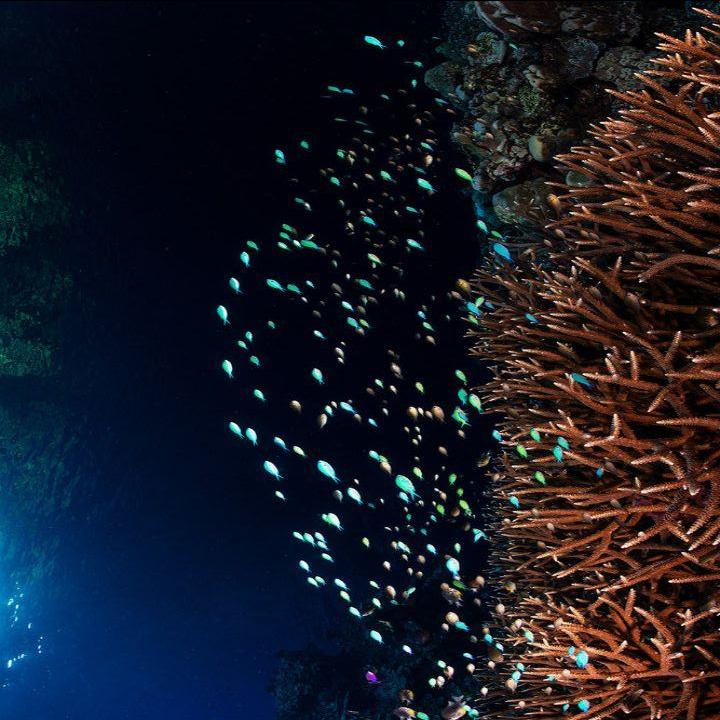Healthy Coral: (474, 4, 712, 712)
